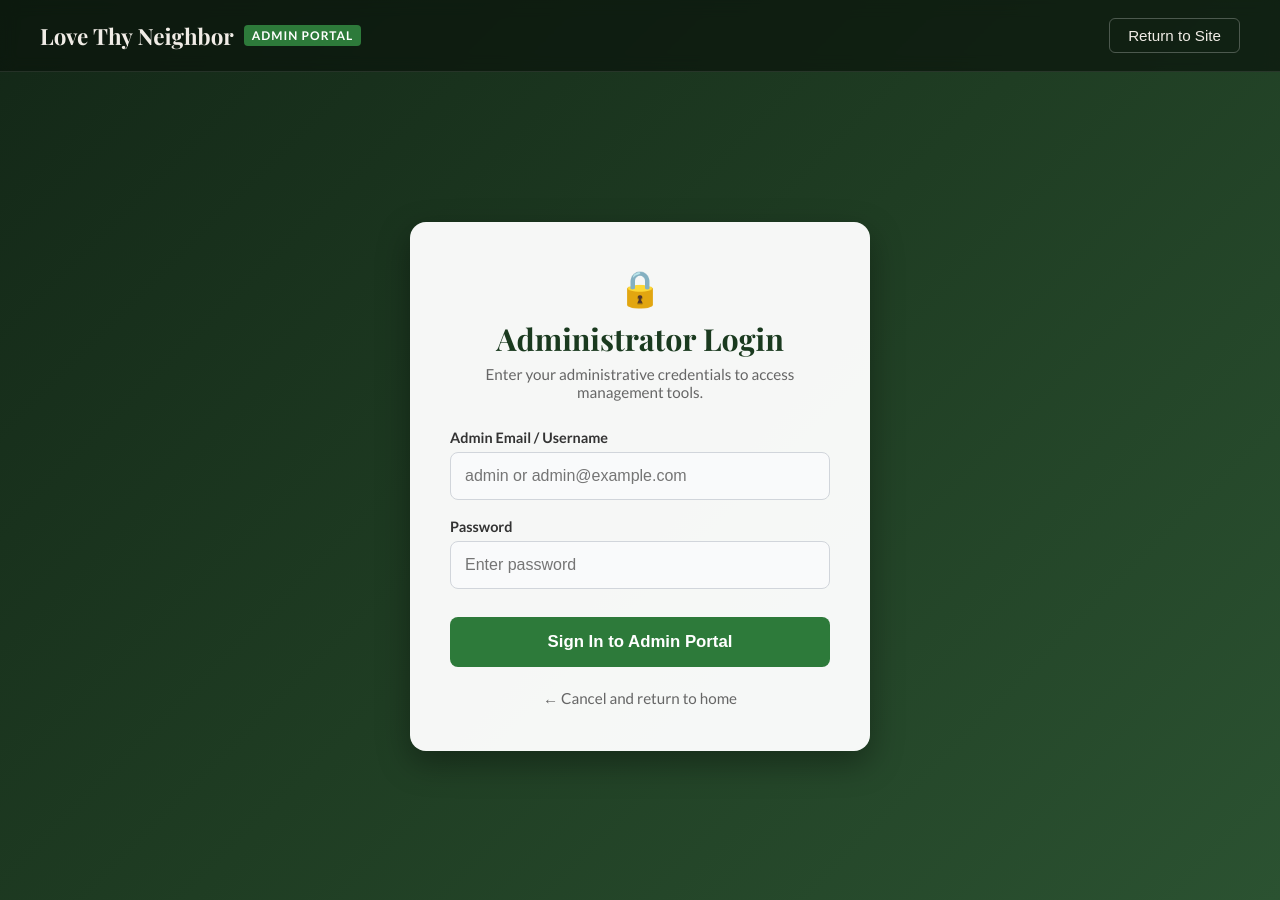
Test: Deployment Readiness End-to-End UI & Failure-Mode Flows › Admin login, session refresh, moderation & capacity modal failure modes › AdminLogin handles 401, 403, network failure, and 200 admin authentication
Type "admin@ltn.org" into the field labelled "Admin Email / Username" at point(640, 476), box [450,452,830,500]
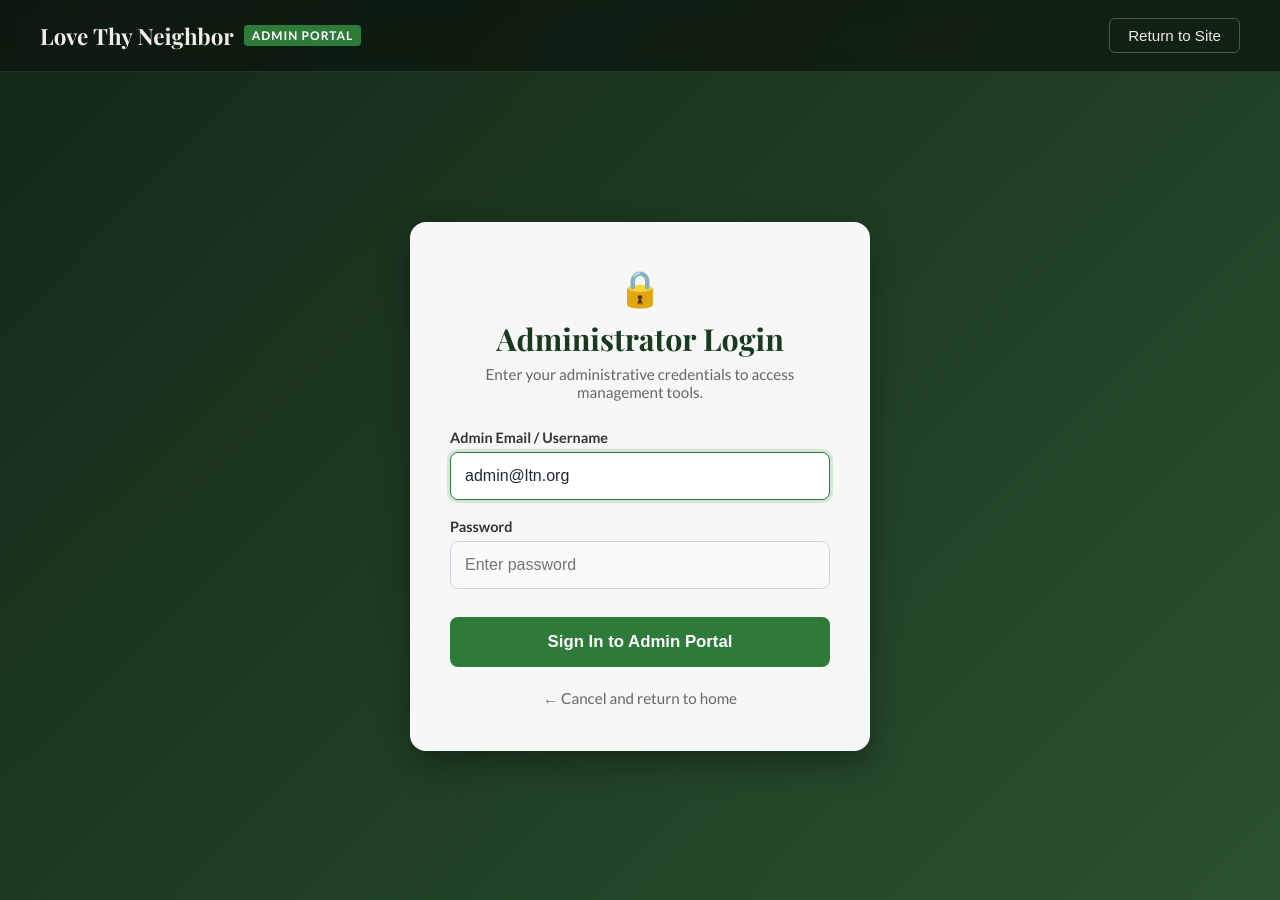
Type "Secret123!" into the password field labelled "Password" at point(640, 564), box [450,540,830,588]
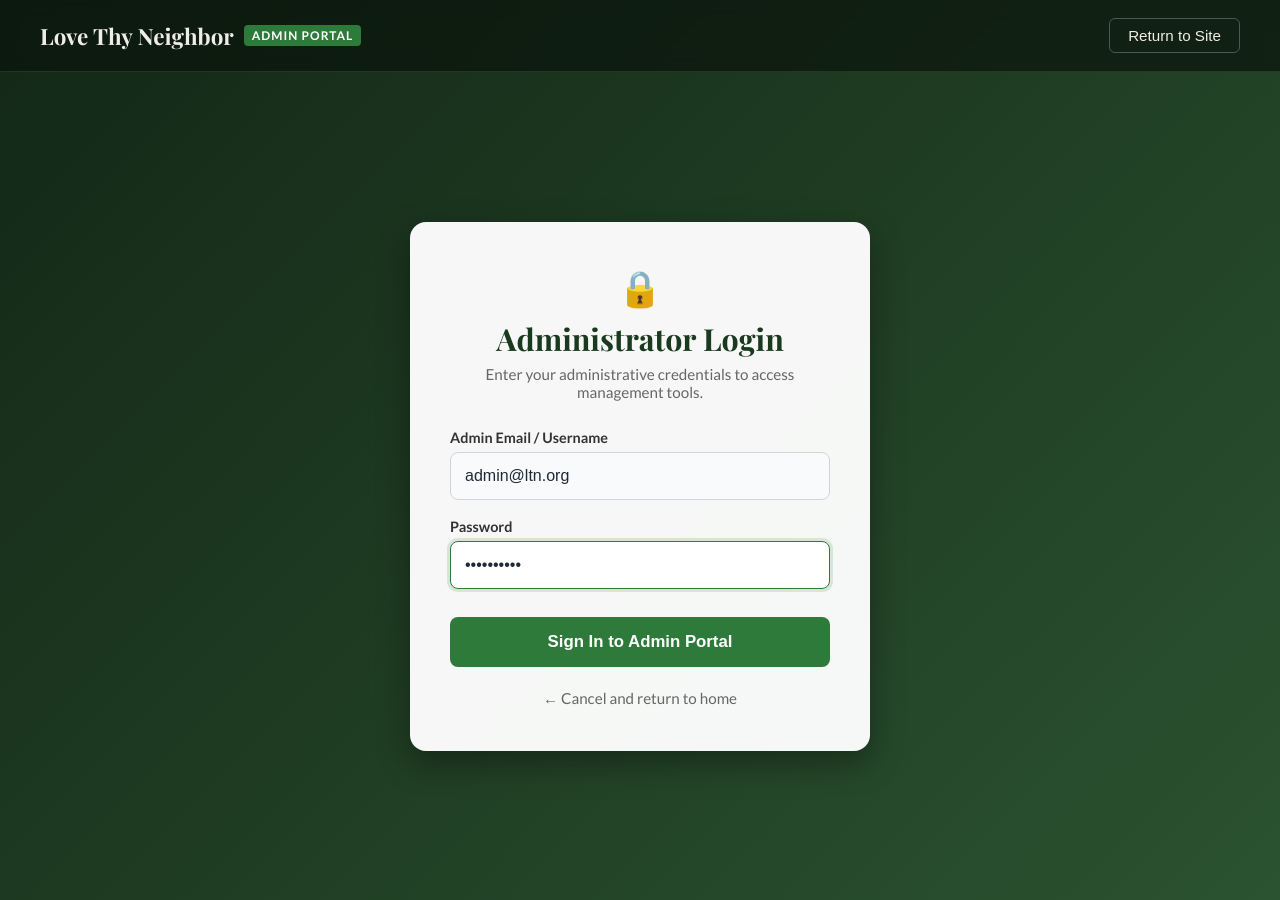
Click the button "Sign In to Admin Portal" at point(640, 642), box [450,616,830,666]
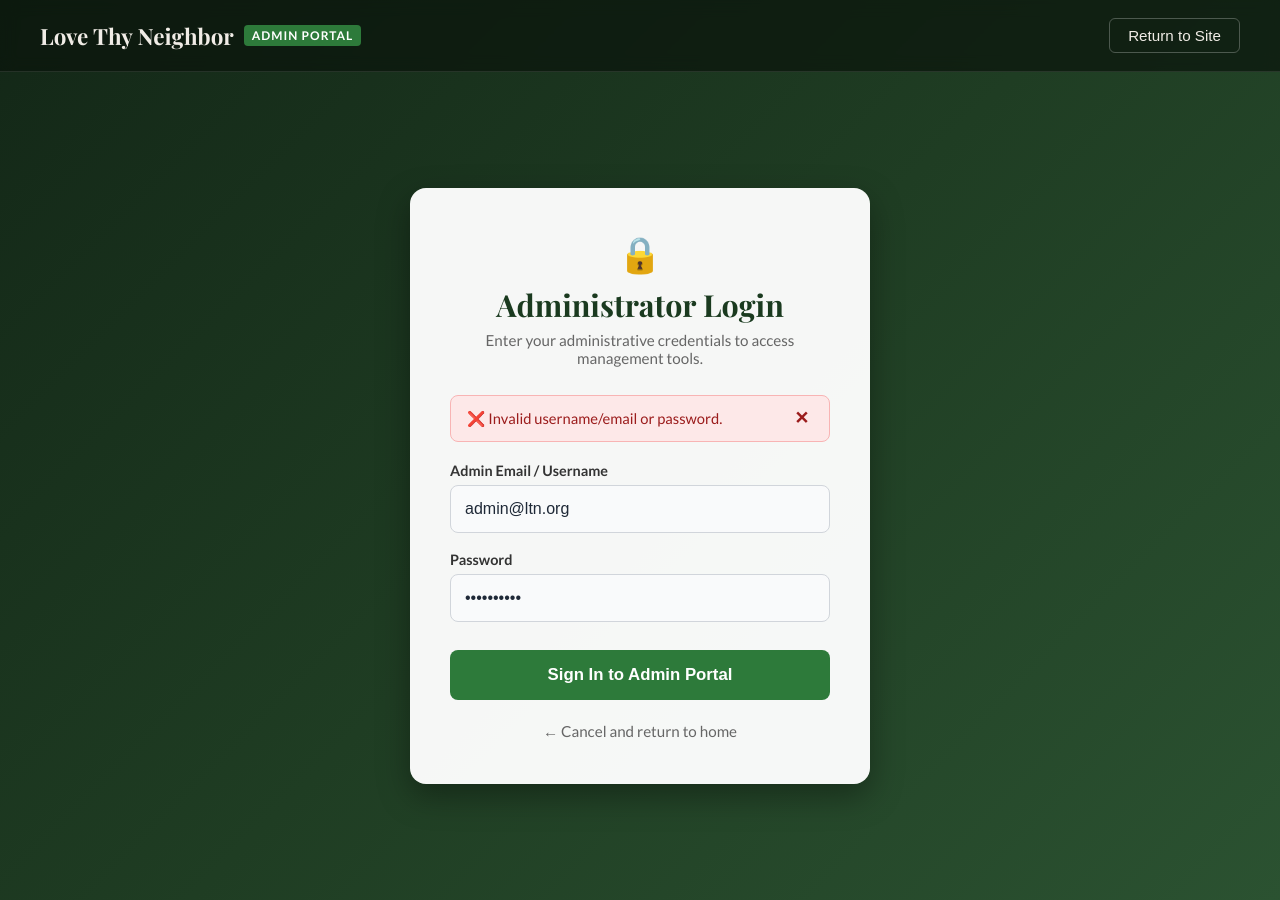
Expected: the message shows "Invalid username/email or password", [467,409,722,427]
Click the button "Sign In to Admin Portal" at point(640, 675), box [450,650,830,700]
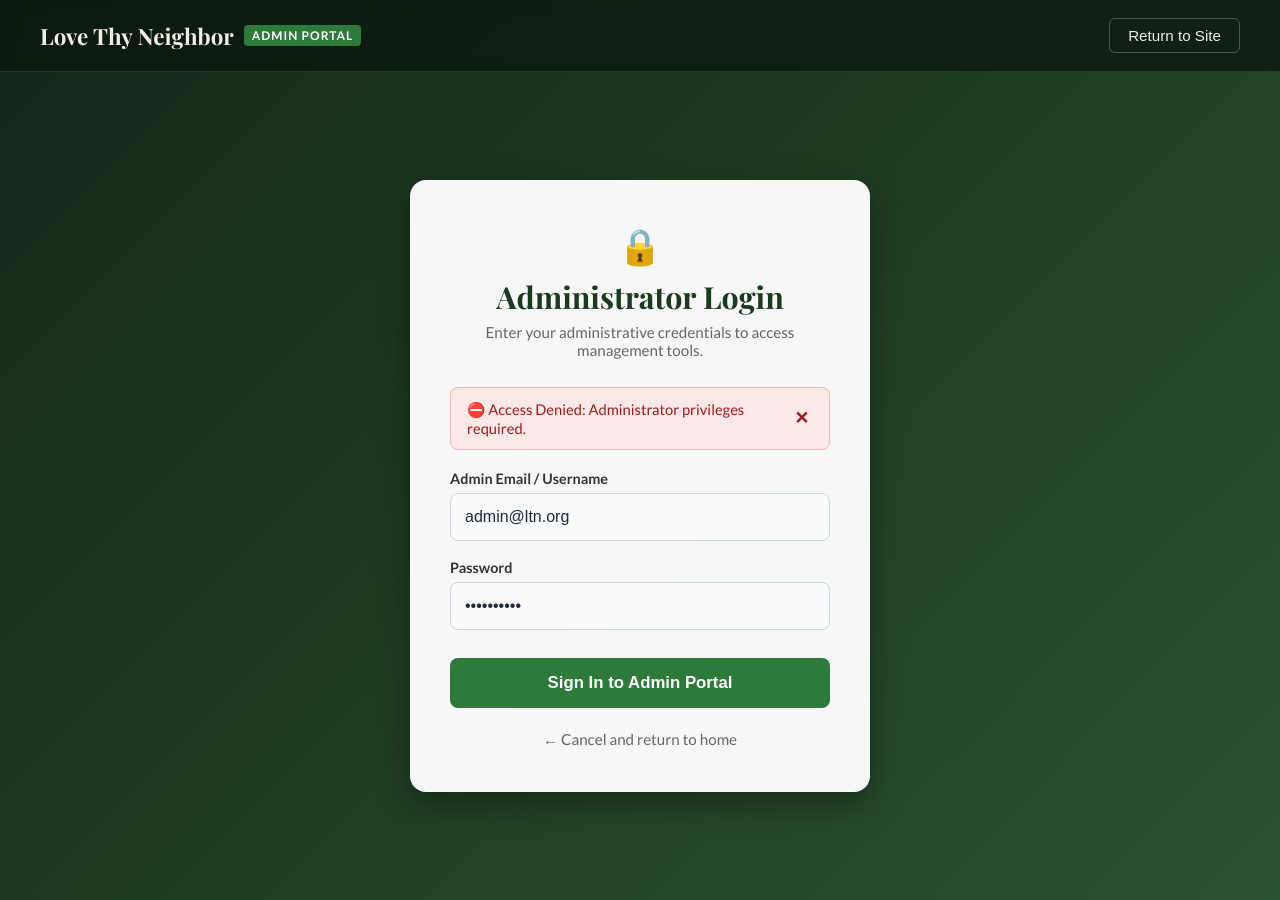
Expected: the message shows "Access Denied", [467,400,744,437]
Click the button "Sign In to Admin Portal" at point(640, 683), box [450,658,830,708]
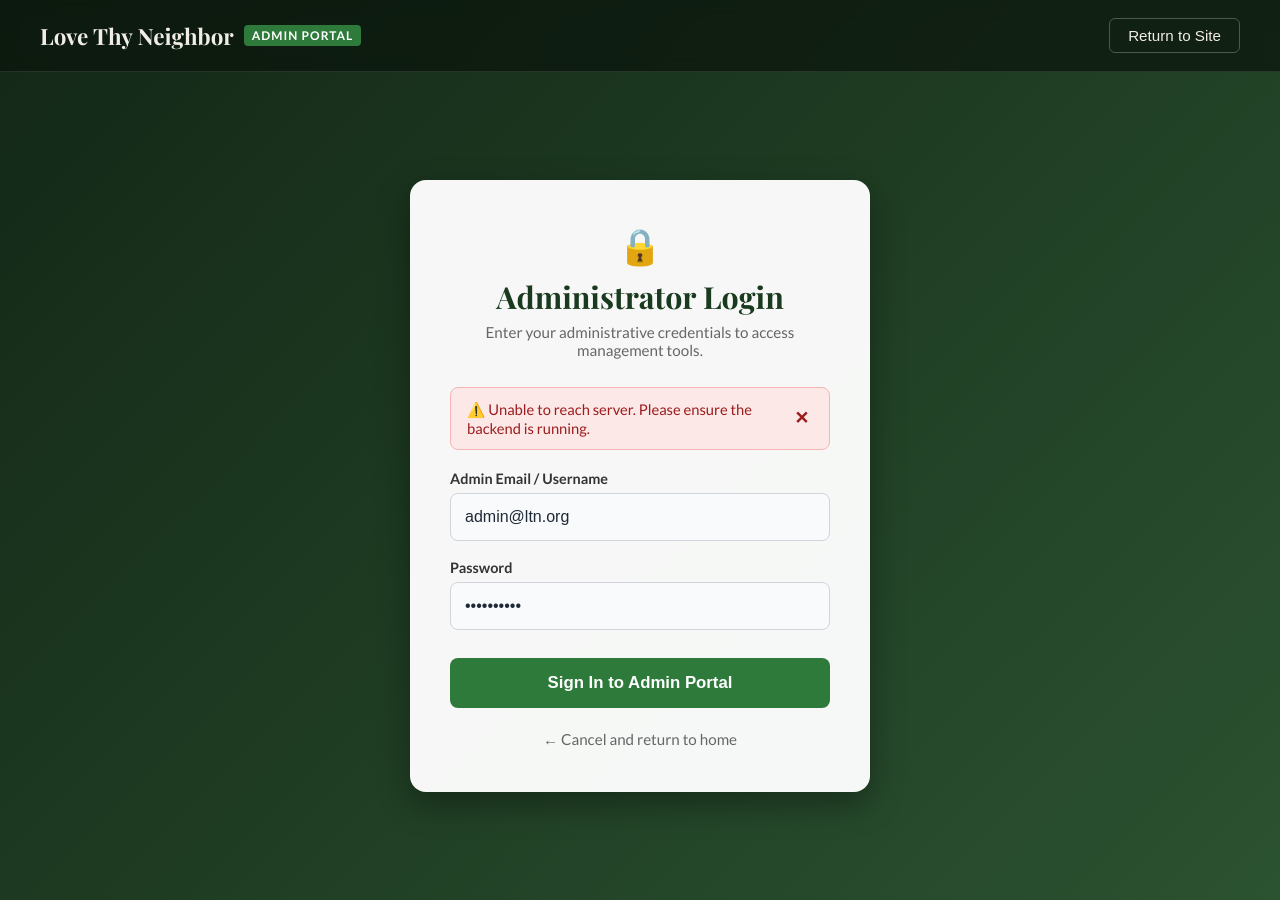
Expected: the message shows "Unable to reach server", [467,400,752,437]
Click the button "Sign In to Admin Portal" at point(640, 683), box [450,658,830,708]
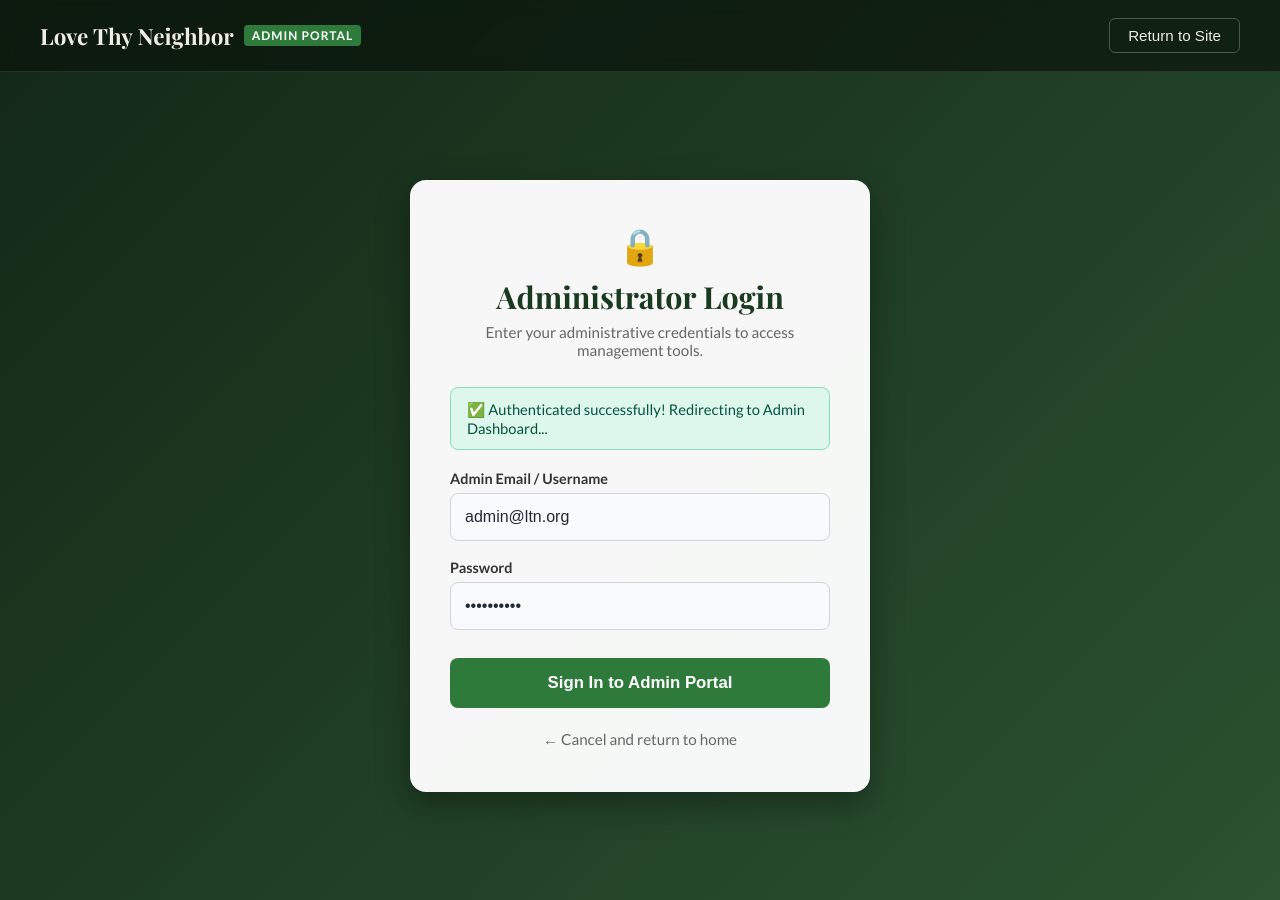
Expected: the message shows "Authenticated successfully", [467,400,805,437]
